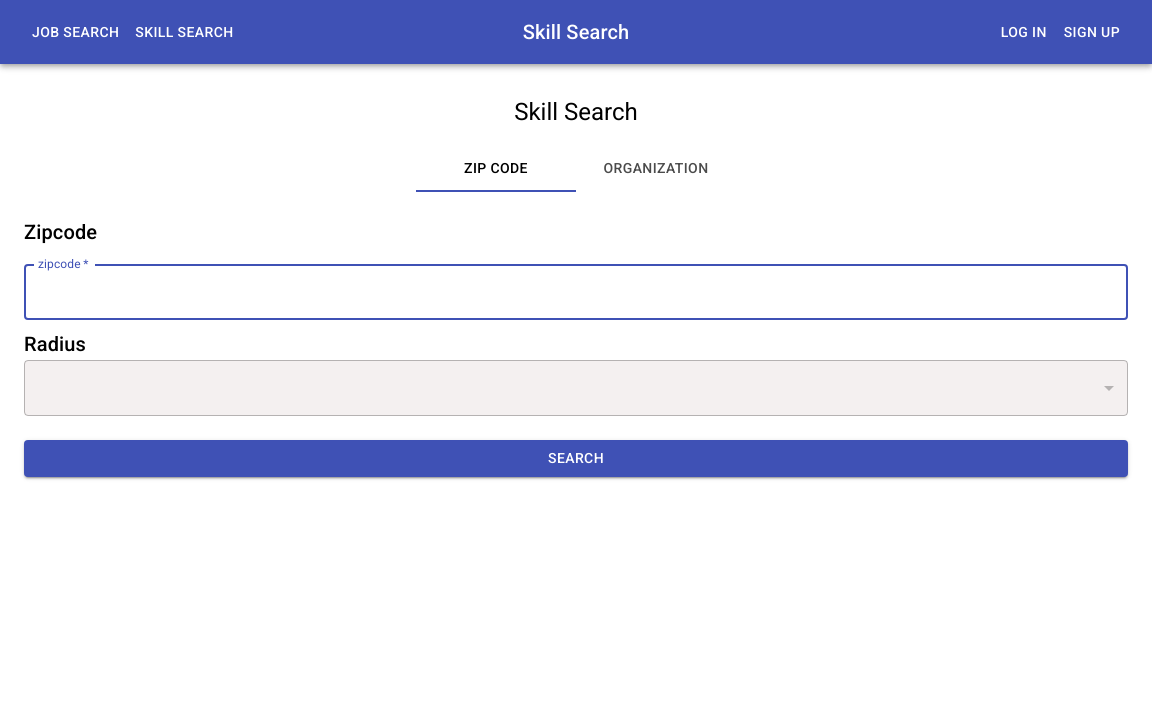
Skill Search › Skill search by zip code SUCCESS
The image size is (1152, 720).
In the field with id "zipcode": (576, 292) [24,264,1128,320], type "14623"
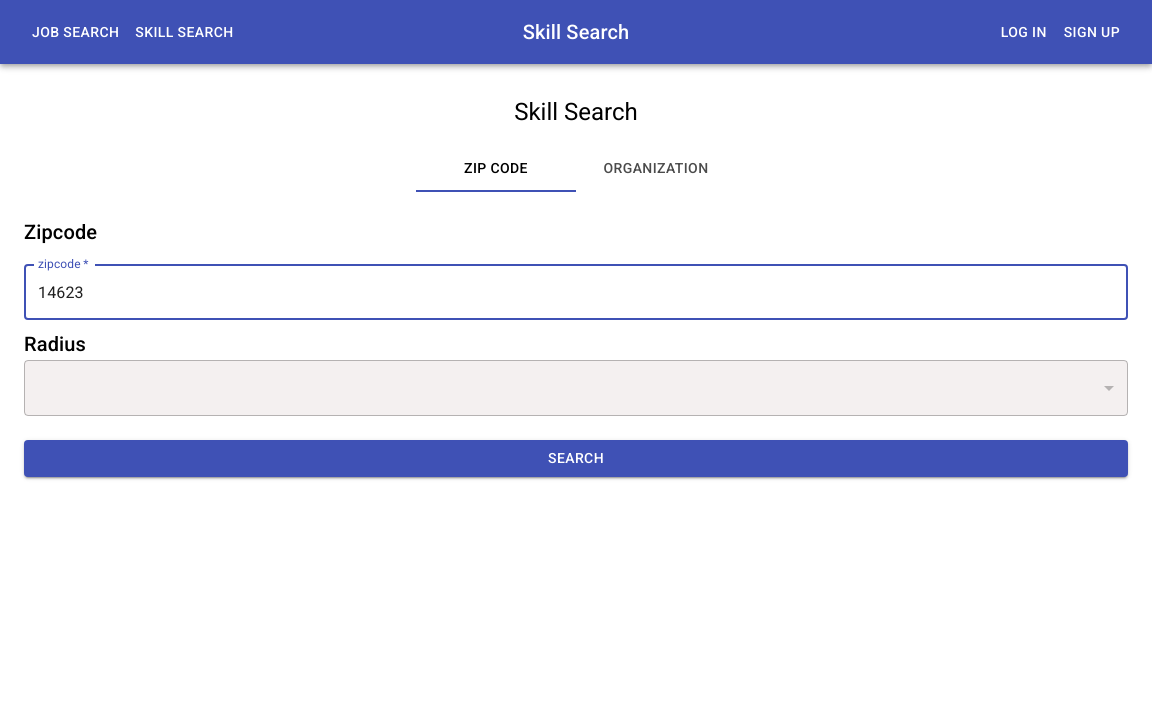
Click the button with id "submit": click(576, 459) [24,440,1128,477]
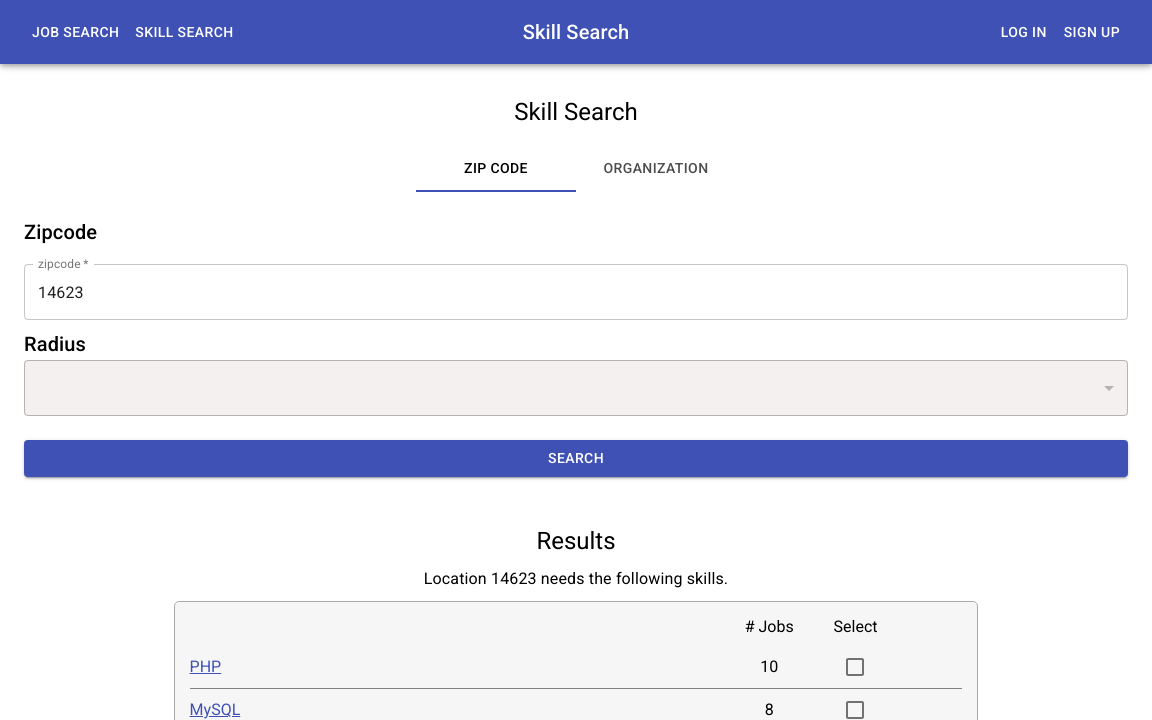
Expected: the link "PHP" is shown, [190,657,221,676]
Expected: the link "MySQL" is shown, [190,700,240,719]
